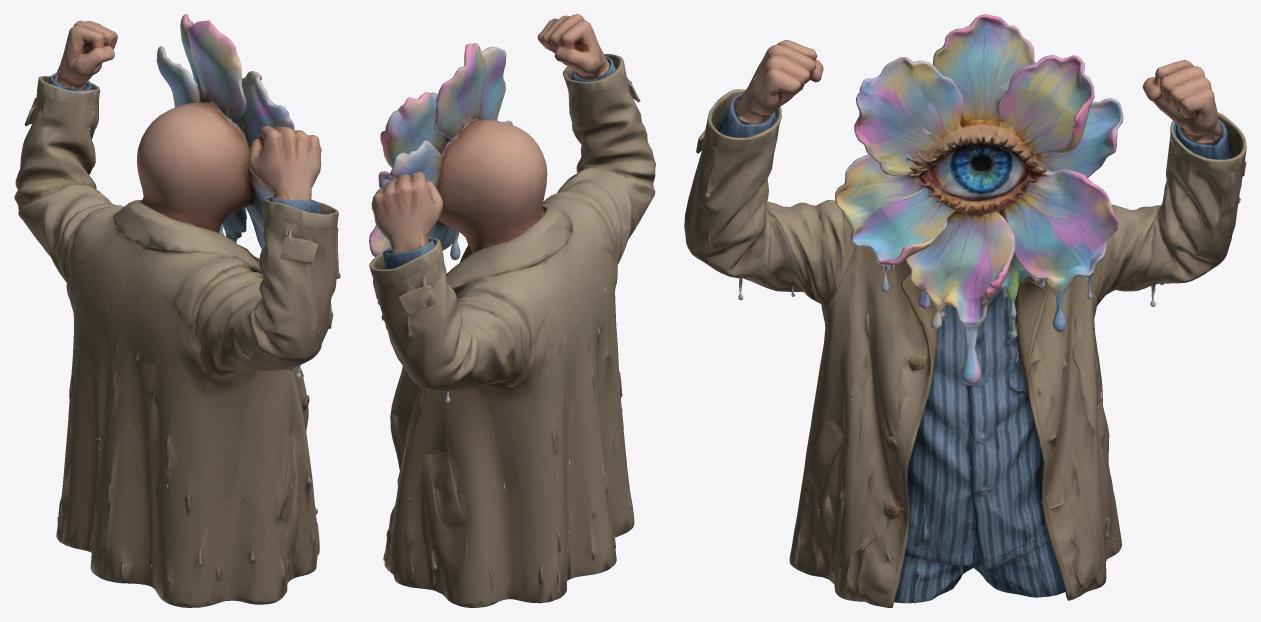
File: anchor.glb
3 views of the same model, side by side, from view 1: azimuth 30°, elevation 25°; view 2: azimuth 150°, elevation 25°; view 3: azimuth 270°, elevation 25° (orthographic). The views are drawn at different scales.
Visible parts, largest first — view 1: tripo_node_fa3dc22c-be10-463f-962a-c85152278aed; view 2: tripo_node_fa3dc22c-be10-463f-962a-c85152278aed; view 3: tripo_node_fa3dc22c-be10-463f-962a-c85152278aed.
Boxes of the visible parts, left/top/right/bottom form: tripo_node_fa3dc22c-be10-463f-962a-c85152278aed: left=14, top=14, right=340, bottom=607; tripo_node_fa3dc22c-be10-463f-962a-c85152278aed: left=369, top=14, right=655, bottom=607; tripo_node_fa3dc22c-be10-463f-962a-c85152278aed: left=684, top=14, right=1246, bottom=607.
Size of the model in its own units: 0.425 by 1 by 0.9072.
Materials: 1 (1 with a texture image).
